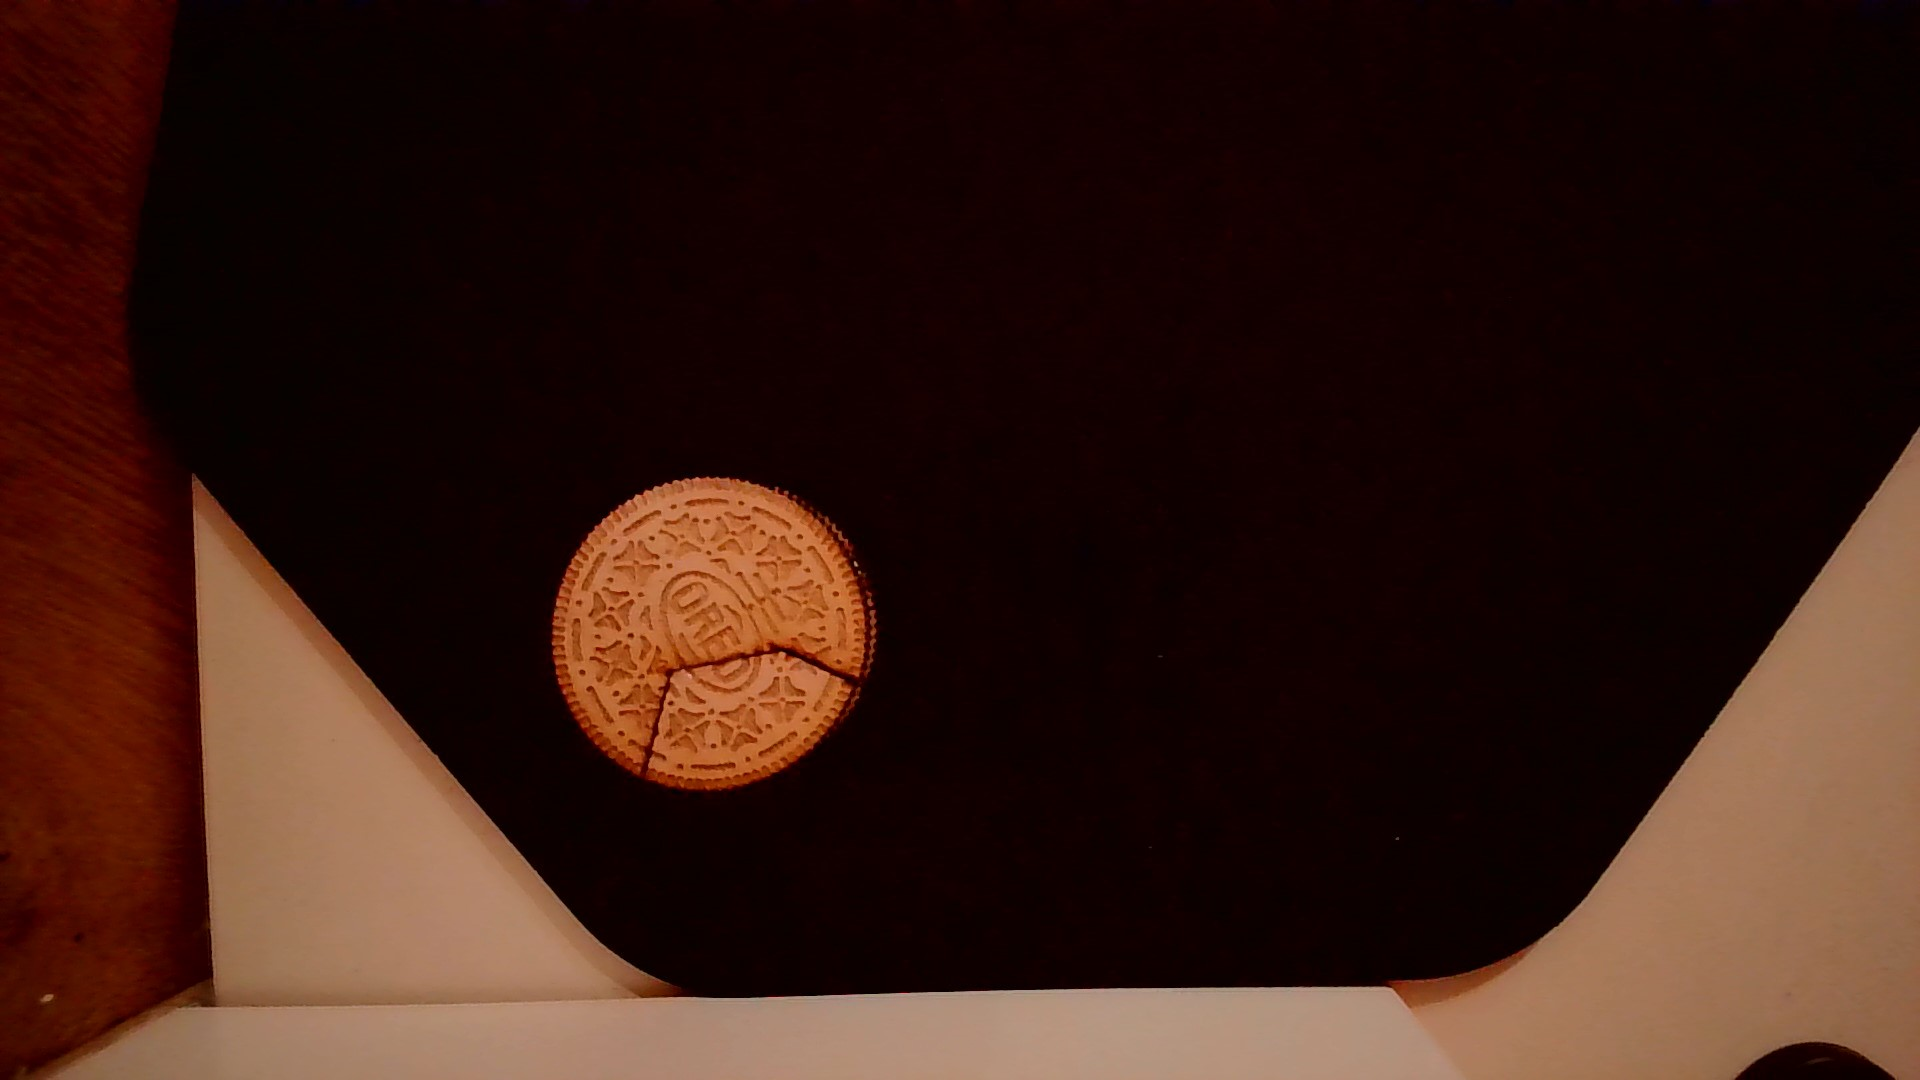Fissure: (630, 636, 858, 790)
Oréo: (542, 464, 886, 796)
